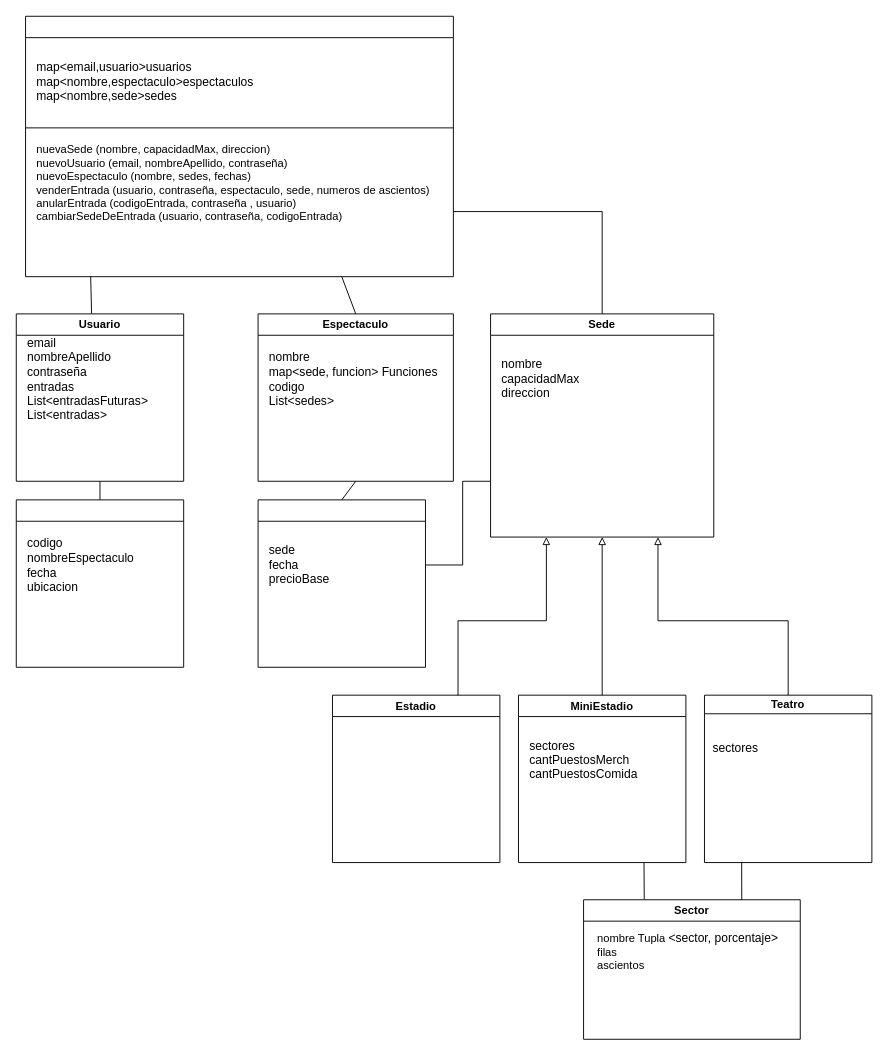
Image size: 888x1056. Some labels were removed from this diagram. Here are the shapes that lost their labels. From the top down, the box of each, then its label:
(25, 15, 453, 277): Ticketek
(15, 499, 184, 667): Entrada
(257, 499, 425, 667): Funcion
